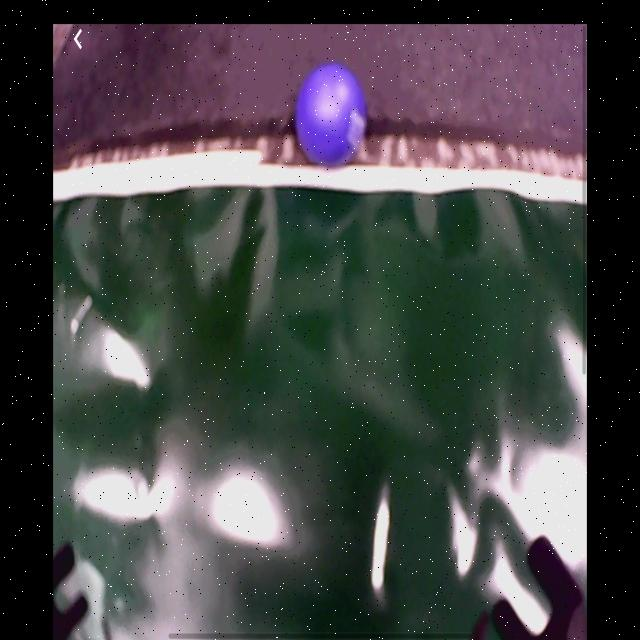ball: (299, 67, 369, 168)
